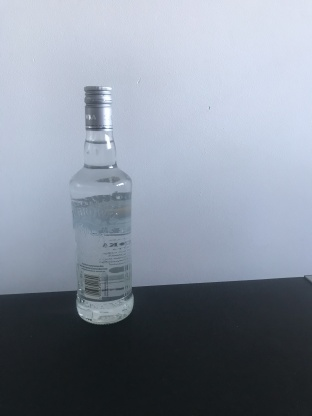nakretka: (81, 84, 114, 132)
